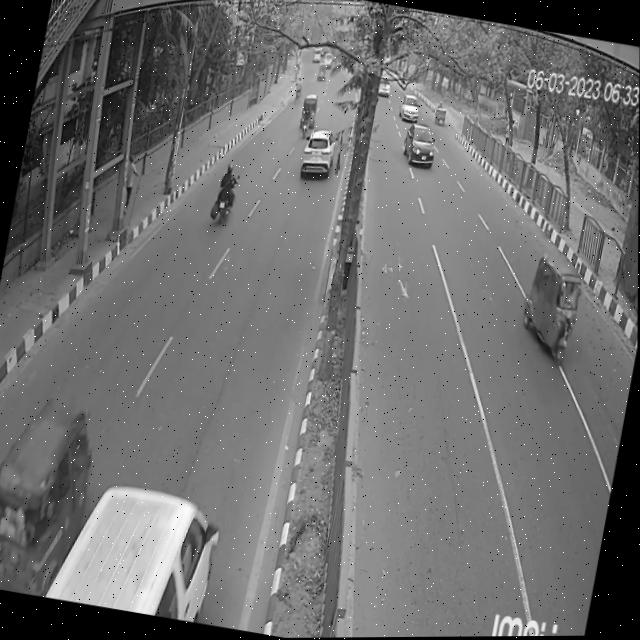cng: (0, 386, 113, 602), (514, 243, 599, 387), (297, 89, 322, 133)
